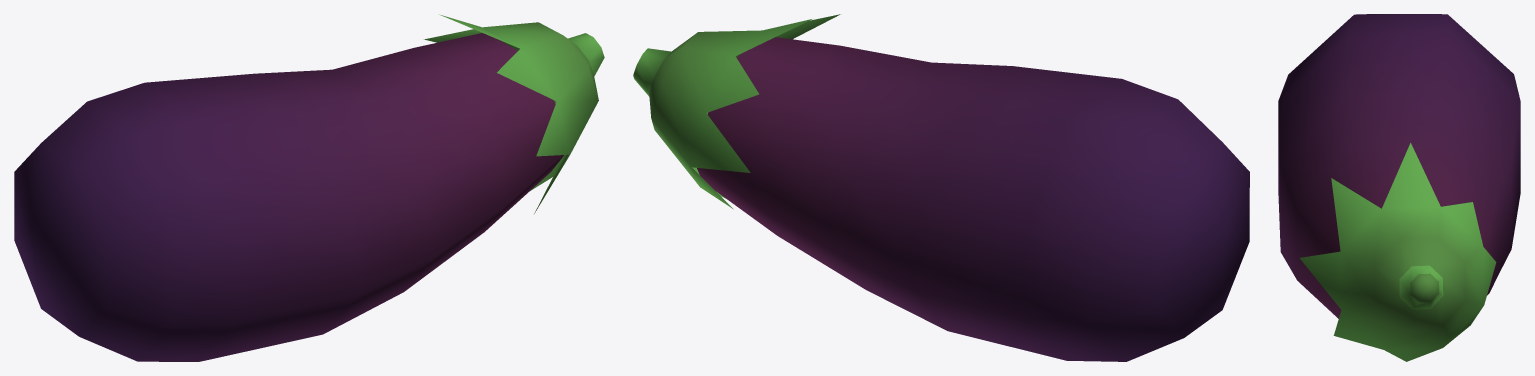
3 renders of one model, left to right at view 1: azimuth 30°, elevation 25°; view 2: azimuth 150°, elevation 25°; view 3: azimuth 270°, elevation 25°, orthographic. The views are drawn at different scales.
Visible parts, largest first — view 1: base.010; view 2: base.010; view 3: base.010.
Part boxes in pixels (x1=…): base.010: x1=14, y1=14, x2=604, y2=361; base.010: x1=633, y1=14, x2=1249, y2=361; base.010: x1=1278, y1=14, x2=1520, y2=361.
Bounding box in the file's own units: 0.5 × 0.2155 × 0.1988.
